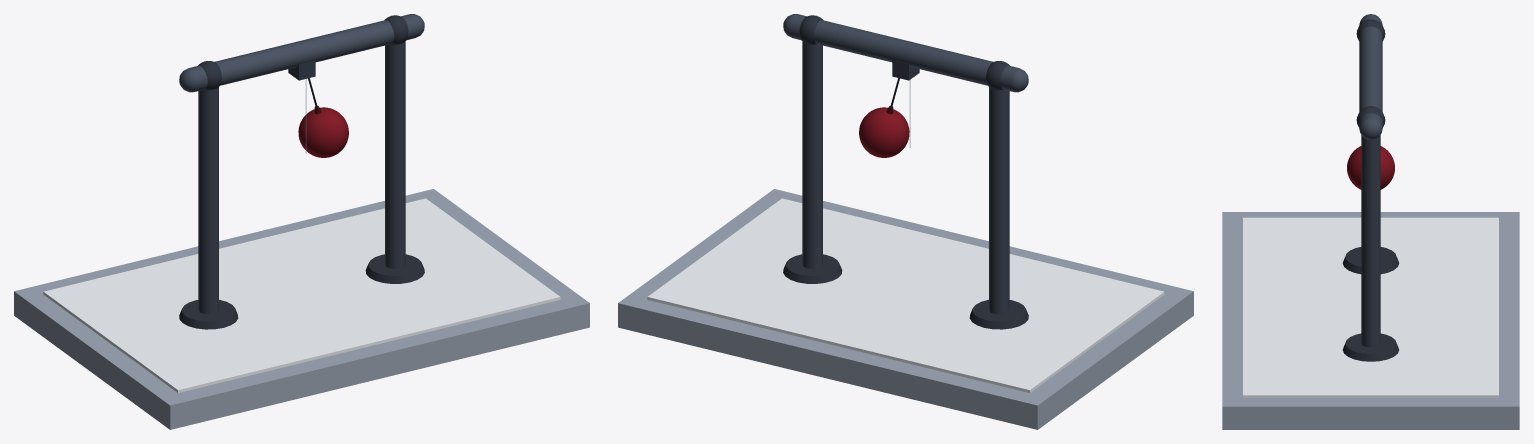
File: simple-pendulum.glb
3 renders of one model, left to right at view 1: azimuth 30°, elevation 25°; view 2: azimuth 150°, elevation 25°; view 3: azimuth 270°, elevation 25°, orthographic. The views are drawn at different scales.
Parts seen in each view (by area): view 1: Base, Stand, Bob; view 2: Base, Stand, Bob; view 3: Base, Stand, Bob.
Boxes of the visible parts, x1,y1,x2,y2 form: Base: (14,189,589,429); Stand: (179,14,424,329); Bob: (298,107,348,157); Base: (618,189,1193,429); Stand: (783,14,1028,329); Bob: (859,107,909,157); Base: (1222,212,1519,429); Stand: (1342,14,1399,361); Bob: (1347,146,1394,189).
Size of the model in its own units: 0.216 by 0.1387 by 0.1392.
